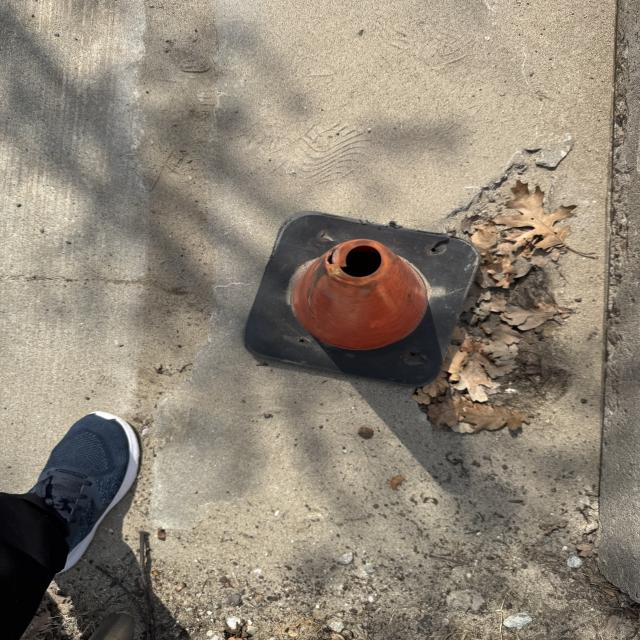Traffic Cone: (246, 210, 479, 384)
